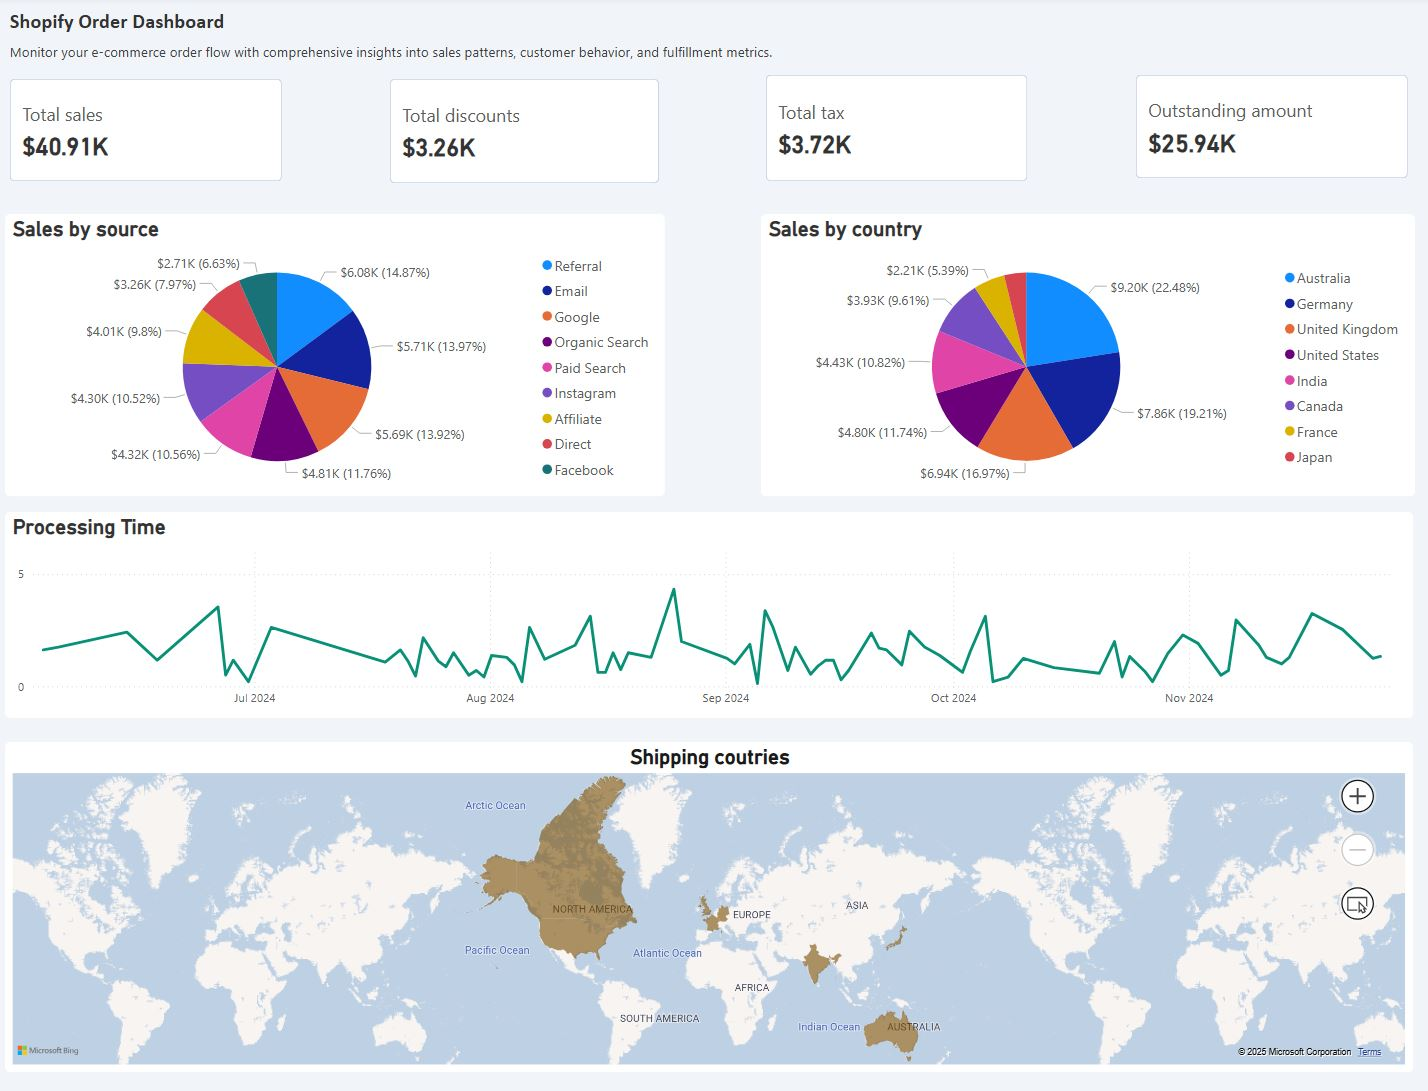

Layout of this report page (visuals, bound fields, positions):
{"tool":"powerbi","page":{"name":"Overview_2","canvas":[1500,1150],"ordinal":1},"visuals":[{"type":"textbox","box":[11.6,10.2,281.7,39.2],"z":0},{"type":"cardVisual","fields":{"Data":["Key Measures.Total Sales"]},"box":[12.7,83.5,294,118],"z":500},{"type":"cardVisual","fields":{"Data":["Key Measures.Total Tax"]},"box":[802.5,79.7,283.1,122],"z":750},{"type":"cardVisual","fields":{"Data":["Key Measures.Total Discoutns"]},"box":[408.7,82.6,291.8,119.1],"z":875},{"type":"cardVisual","fields":{"Data":["Key Measures.Outstanding Amount"]},"box":[1187.6,79.3,294.3,119],"z":937},{"type":"textbox","box":[12.3,46.2,844.1,44.7],"z":1000},{"type":"pieChart","title":"Sales by source","fields":{"Y":["Key Measures.Total sales"],"Category":["orders.sales_channel"]},"box":[12.5,229.6,688.7,294.3],"z":6000},{"type":"pieChart","title":"Sales by country","fields":{"Y":["Key Measures.Total sales"],"Category":["orders.country"]},"box":[801.5,229.6,682.5,294.3],"z":7000},{"type":"lineChart","title":"Processing Time","fields":{"Y":["Sum(orders.Processing Time (Days))"],"Category":["orders.created_at"]},"box":[12.5,540.6,1469.3,215],"z":8000},{"type":"filledMap","title":"Shipping coutries","fields":{"Category":["orders.country"]},"box":[12.5,780.6,1469.3,344.4],"z":8001}]}

Visuals, with their boxes in screenshot pixels (x1, y1, x2, y2), scaled from the page's 1500x1150 canvas onto the 1428x1091 screenshot:
textbox: locate(11, 10, 279, 47)
cardVisual - Key Measures.Total Sales: locate(12, 79, 292, 191)
cardVisual - Key Measures.Total Tax: locate(764, 76, 1033, 191)
cardVisual - Key Measures.Total Discoutns: locate(389, 78, 667, 191)
cardVisual - Key Measures.Outstanding Amount: locate(1131, 75, 1411, 188)
textbox: locate(12, 44, 815, 86)
"Sales by source" pieChart: locate(12, 218, 668, 497)
"Sales by country" pieChart: locate(763, 218, 1413, 497)
"Processing Time" lineChart: locate(12, 513, 1411, 717)
"Shipping coutries" filledMap: locate(12, 741, 1411, 1067)
